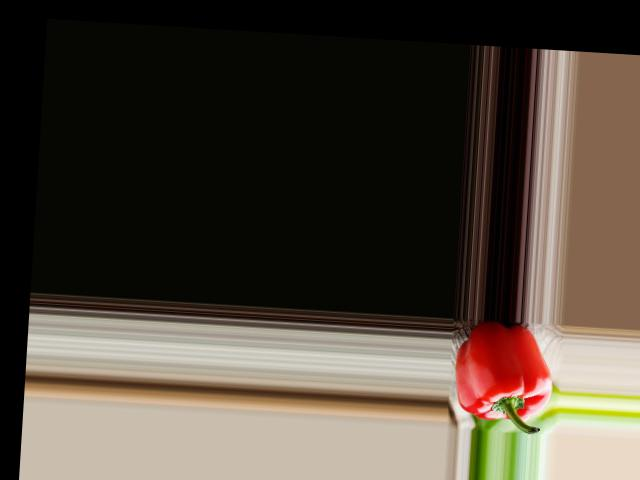bell_pepper: (454, 317, 558, 432)
